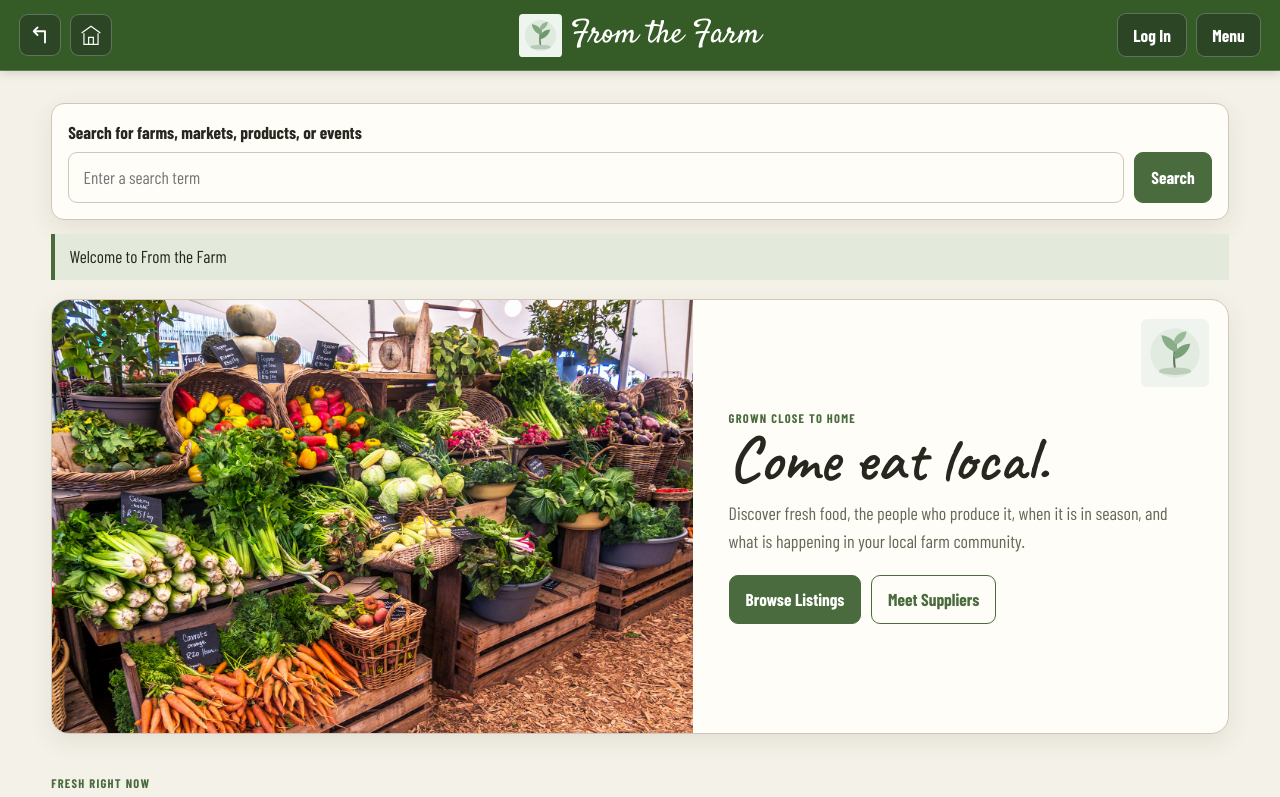
Test case: original homepage and menu lead to the database catalog and cart
Expected: the heading "Come eat local." is shown, 729,419 -> 1049,499
Click the button "Menu" at (1228, 35), box 1196,13 -> 1261,57
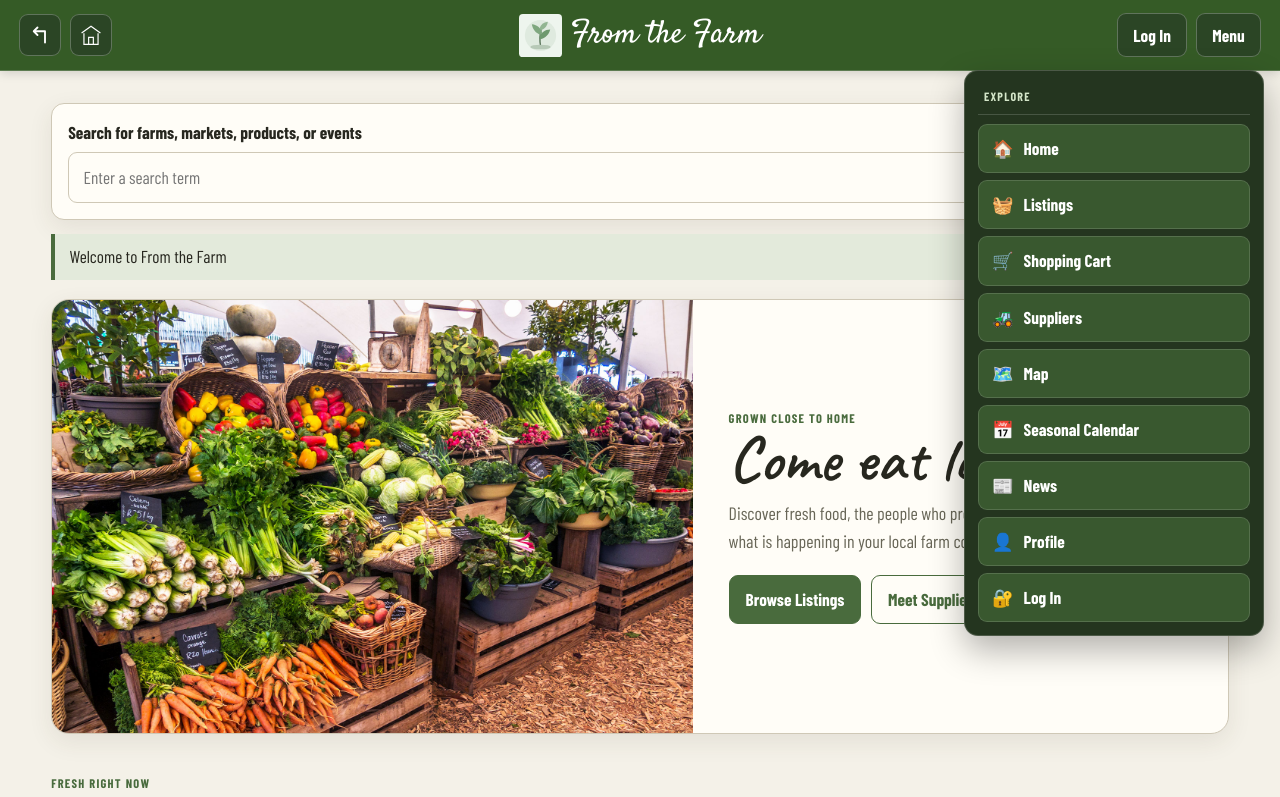
Click the menu item "🛒 Shopping Cart" at (1067, 260), box 978,236 -> 1250,286
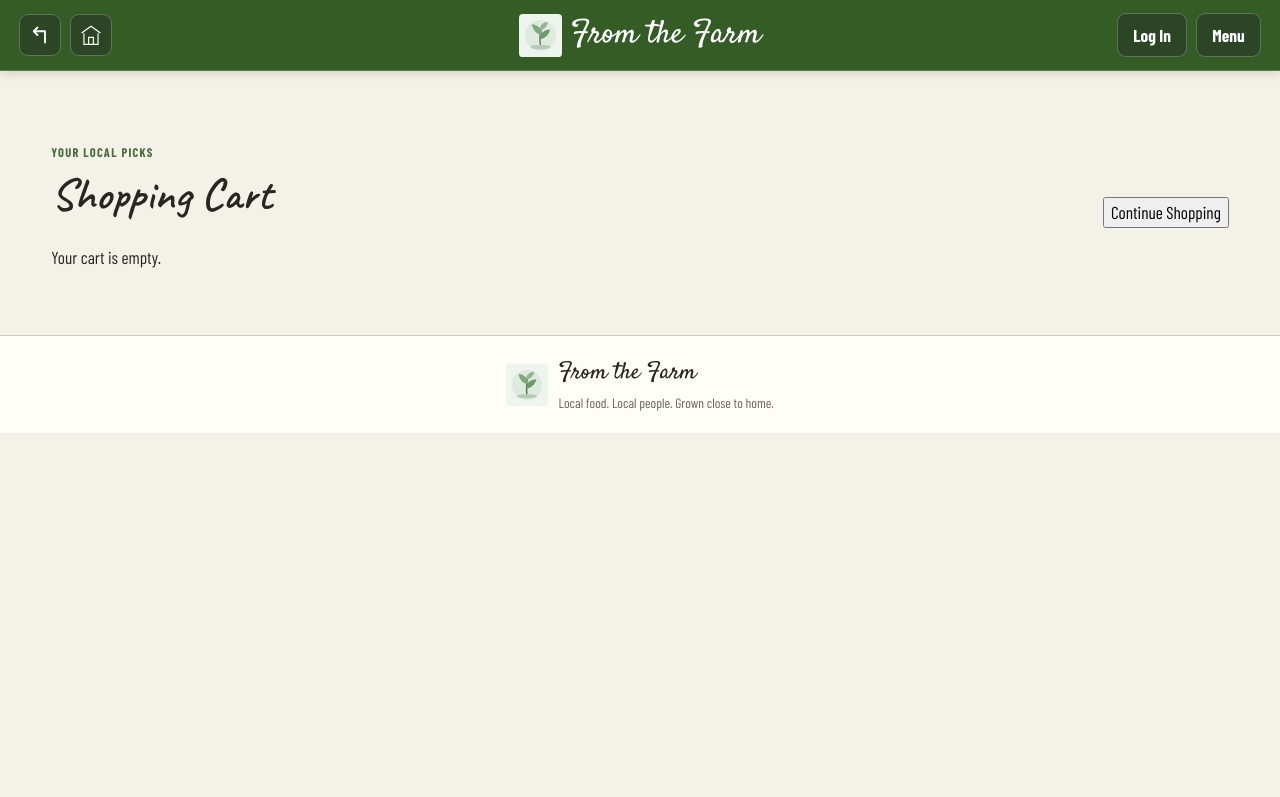
Result: the text "Your cart is empty." is shown at 51,247 -> 161,267
Click the button "Continue Shopping" at (1166, 212), box 1103,197 -> 1229,228
(page scrolled)
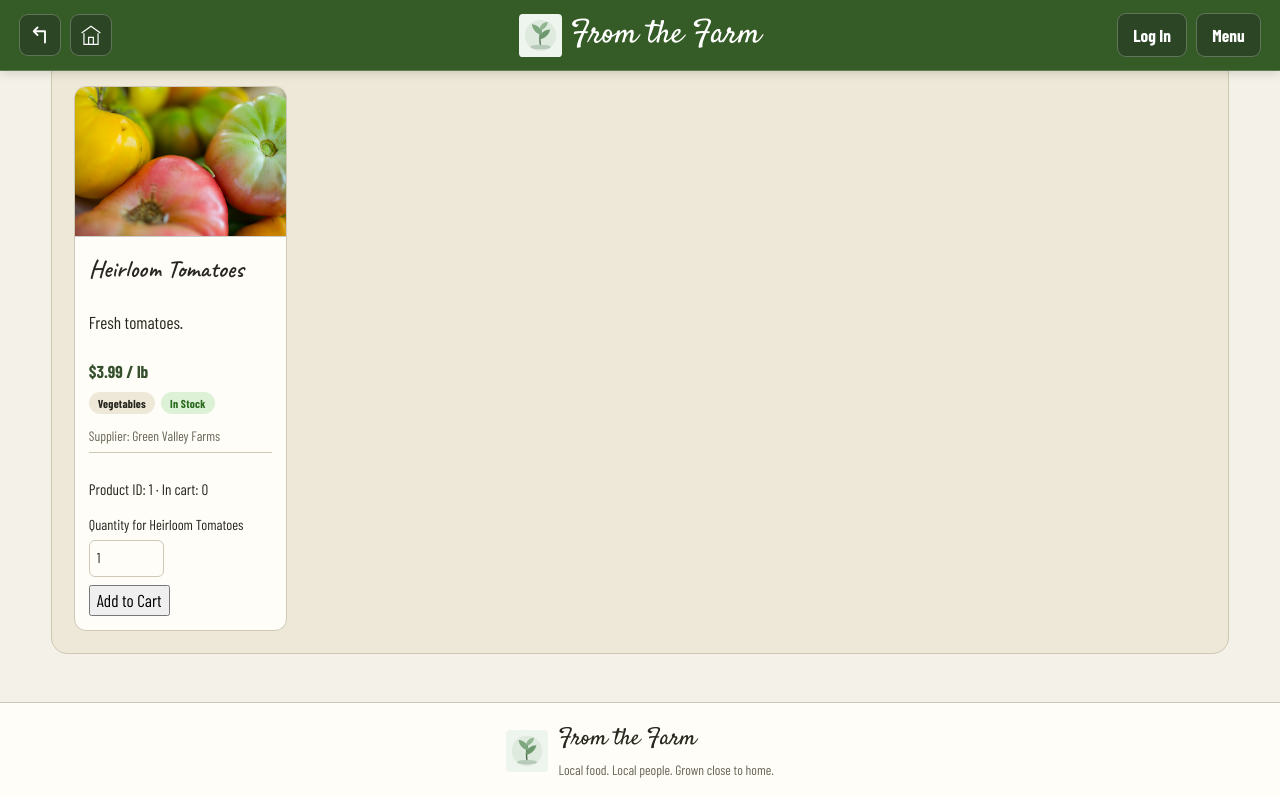
Result: the button "Add to Cart" is shown at 89,585 -> 170,616
